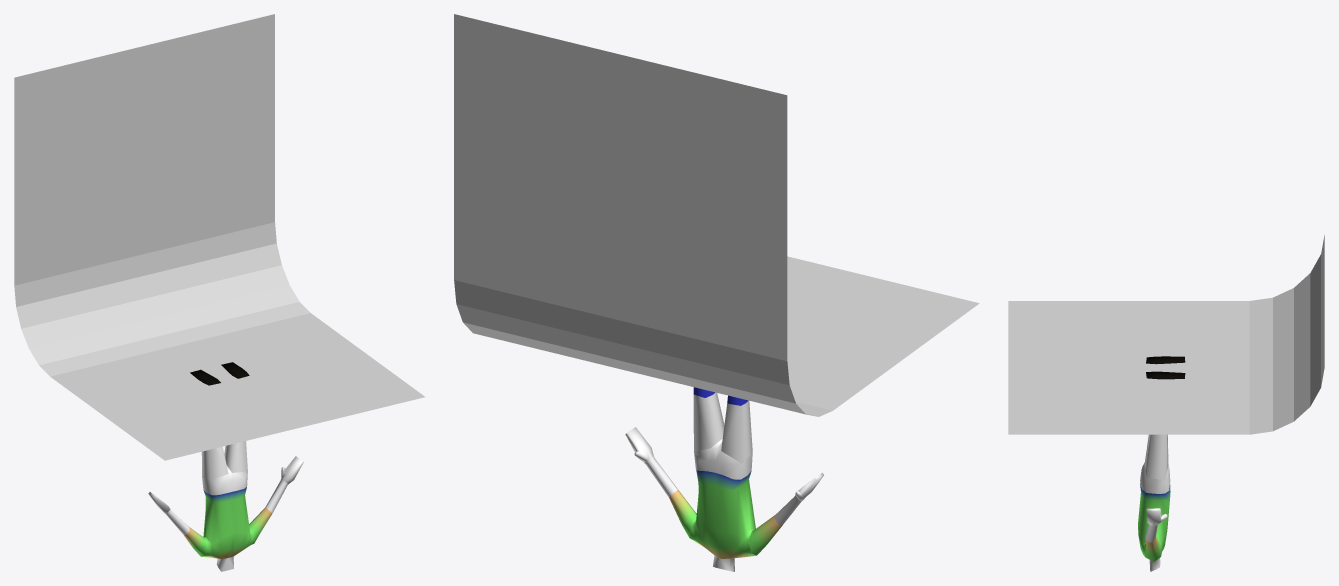
Rendered from CSCI375 low poly mesh5.fbx.
3 renders of one model, left to right at view 1: azimuth 30°, elevation 25°; view 2: azimuth 150°, elevation 25°; view 3: azimuth 270°, elevation 25°, orthographic. The views are drawn at different scales.
Visible parts, largest first — view 1: Plane, Torso, Pelvis, Leg.R, Leg.L; view 2: Plane, Torso, Leg.R, Leg.L, Pelvis, Arm.R; view 3: Plane, Torso, Leg.L, Pelvis.
Part boxes in pixels (<box>): Plane: <box>14,14,424,460</box>; Torso: <box>201,487,254,559</box>; Pelvis: <box>202,466,247,495</box>; Leg.R: <box>201,446,228,480</box>; Leg.L: <box>224,441,247,472</box>; Plane: <box>454,14,979,416</box>; Torso: <box>689,469,756,558</box>; Leg.R: <box>721,400,752,463</box>; Leg.L: <box>693,392,724,451</box>; Pelvis: <box>694,439,752,479</box>; Arm.R: <box>748,514,782,555</box>; Plane: <box>1008,235,1324,434</box>; Torso: <box>1138,484,1170,556</box>; Leg.L: <box>1144,434,1168,480</box>; Pelvis: <box>1140,462,1170,493</box>.
Bounding box in the file's own units: 2000 × 3400 × 2000.
